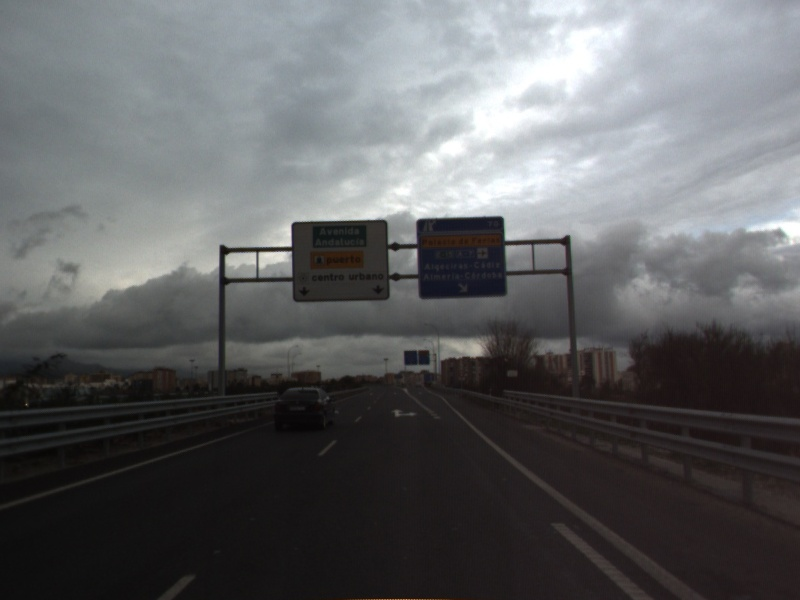STRAIGHT_RIGHT: (389, 407, 420, 419)
